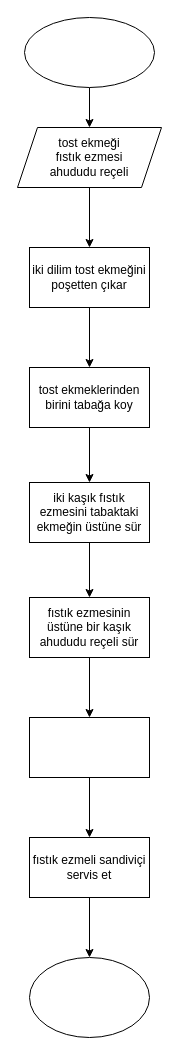
This 179x1055 diagram has some shape labels left out. The box of each missing label's shape, as (x1, y1, x2, y2) in pixels:
Başla: (24, 16, 154, 88)
Bitir: (28, 956, 150, 1038)
ikinci tost ekmeğini ilk ekmeğin üzerine baştırarak kapat: (28, 716, 150, 778)
